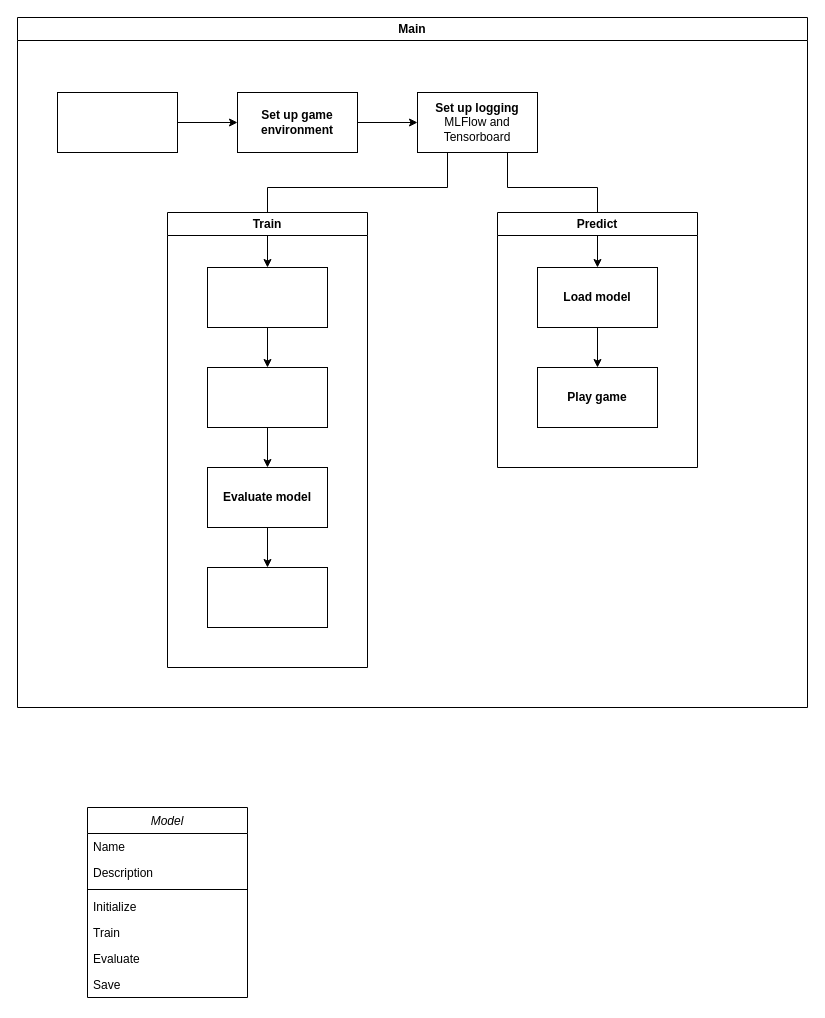
The diagram is 825 pixels wide and 1018 high, and some of its shapes have lost their labels. The centre of each missing label's shape, as x and y in pixels:
"Argument parser" goes at point (117, 122).
"Initialize model Init new model or continue training existing model" goes at point (267, 297).
"Save model Local or model registry" goes at point (267, 597).
"Train model" goes at point (267, 397).
